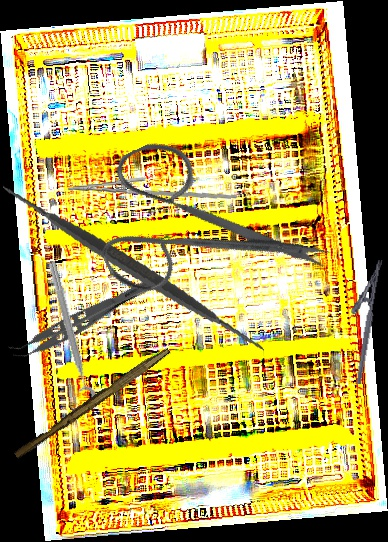Fixation Ring: (36, 258, 99, 412)
Iris Scissors: (67, 93, 335, 350)
Needle Holder: (66, 162, 238, 211), (338, 256, 384, 385)
Scalpel Handle: (12, 342, 172, 463)
Spatula Surgical: (0, 135, 267, 402)
Tissue Forceps: (7, 266, 156, 368)
